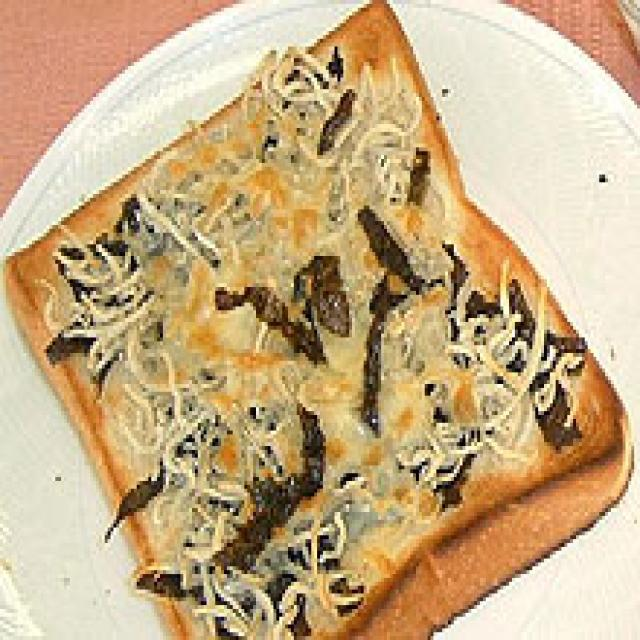面包点心: (0, 0, 625, 628)
